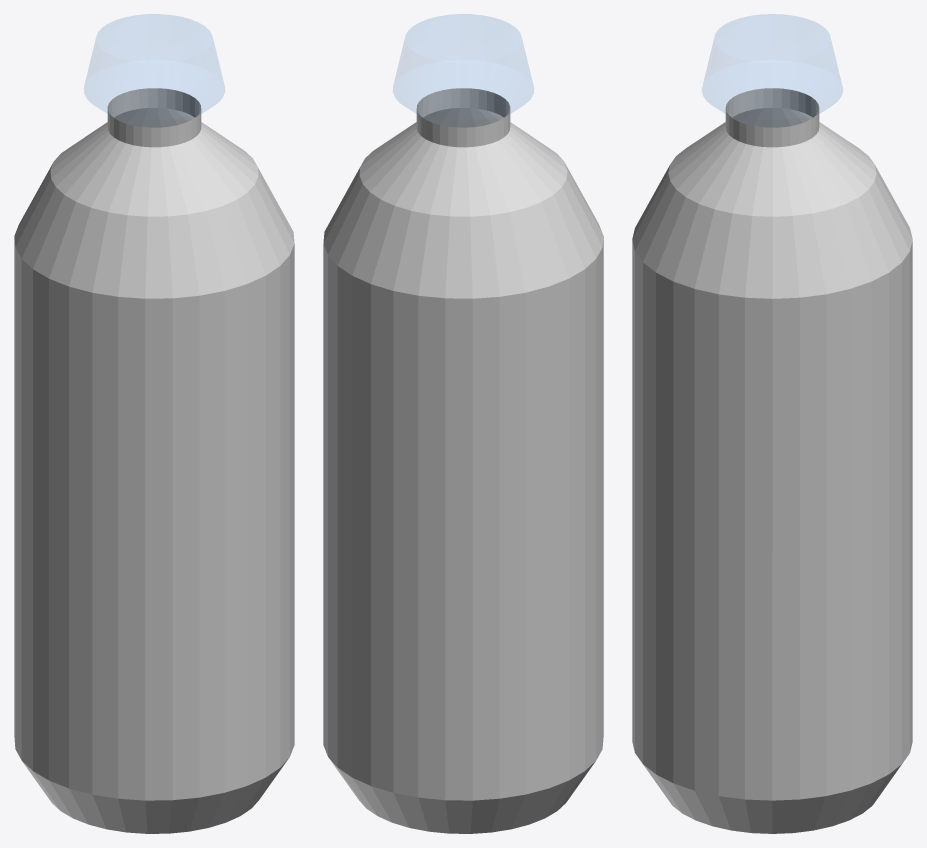
The model's file is færdig-plastik-flaske-med-tekstur (1).fbx.
The picture shows the model from 3 angles, left to right: view 1: azimuth 30°, elevation 25°; view 2: azimuth 150°, elevation 25°; view 3: azimuth 270°, elevation 25°; orthographic projection.
Visible parts, largest first — view 1: Cylinder; view 2: Cylinder; view 3: Cylinder.
Boxes of the visible parts, x1,y1,x2,y2 form: Cylinder: [14, 14, 294, 833]; Cylinder: [323, 14, 603, 833]; Cylinder: [632, 14, 912, 833].
Size of the model in its own units: 84.79 by 252 by 84.79.
